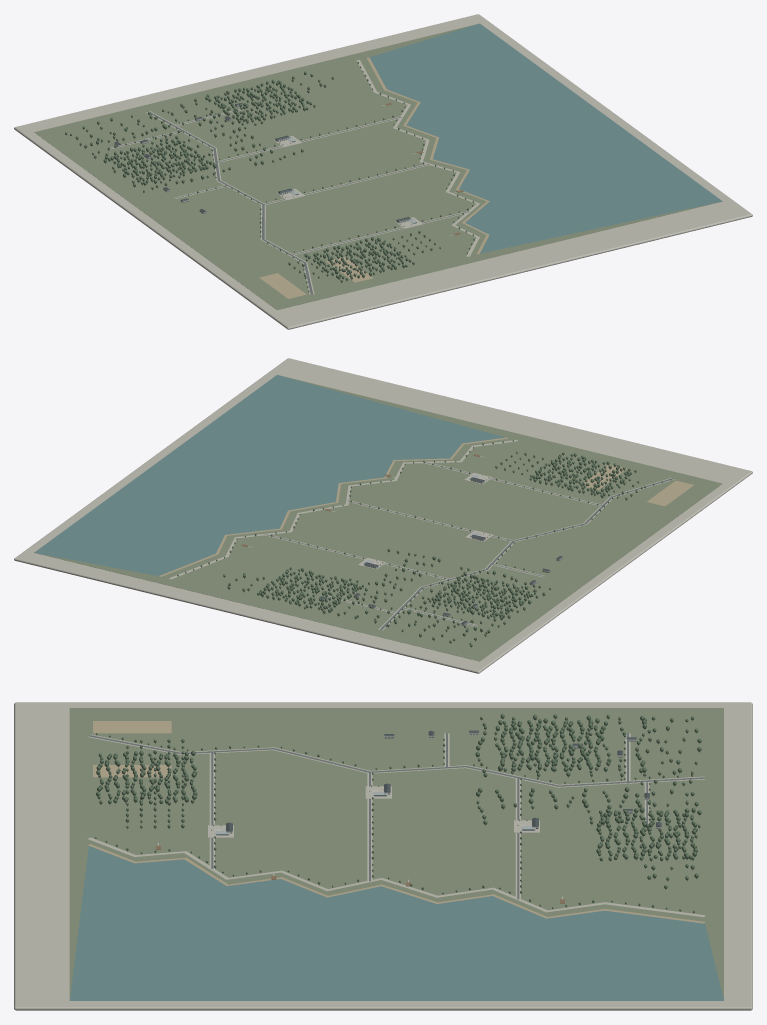
Rendered from IN-complete-v2.glb.
3 views of the same model, one above another, from view 1: azimuth 30°, elevation 25°; view 2: azimuth 150°, elevation 25°; view 3: azimuth 270°, elevation 25° (orthographic). The views are drawn at different scales.
Visible parts, largest first — view 1: IN_TERRAIN, IN_LAKE, IN_BASE, IN_PERIPHERAL_WOODS, IN_MACRO_WOODLAND, IN_shore_path_verge, IN_BANK, IN_rural_verge, IN_rural, IN_AVENUE_COURT_TREES, IN_FIELD_0; view 2: IN_TERRAIN, IN_LAKE, IN_BASE, IN_PERIPHERAL_WOODS, IN_MACRO_WOODLAND, IN_shore_path_verge, IN_BANK, IN_rural_verge, IN_rural, IN_AVENUE_COURT_TREES, IN_FIELD_0; view 3: IN_TERRAIN, IN_LAKE, IN_BASE, IN_PERIPHERAL_WOODS, IN_MACRO_WOODLAND, IN_shore_path_verge, IN_rural_verge, IN_BANK, IN_rural, IN_FIELD_0, IN_AVENUE_COURT_TREES, IN_shore_path (+6 smaller).
Part boxes in pixels (<box>): IN_TERRAIN: <box>34,24,722,310</box>; IN_LAKE: <box>369,23,722,253</box>; IN_BASE: <box>14,14,752,329</box>; IN_PERIPHERAL_WOODS: <box>105,79,414,282</box>; IN_MACRO_WOODLAND: <box>65,71,440,278</box>; IN_shore_path_verge: <box>356,60,479,256</box>; IN_BANK: <box>367,57,489,254</box>; IN_rural_verge: <box>146,111,314,294</box>; IN_rural: <box>147,111,313,294</box>; IN_AVENUE_COURT_TREES: <box>116,61,474,291</box>; IN_FIELD_0: <box>259,273,306,298</box>; IN_TERRAIN: <box>34,376,722,661</box>; IN_LAKE: <box>34,375,505,576</box>; IN_BASE: <box>14,358,752,673</box>; IN_PERIPHERAL_WOODS: <box>257,452,636,619</box>; IN_MACRO_WOODLAND: <box>223,451,642,646</box>; IN_shore_path_verge: <box>169,439,517,579</box>; IN_BANK: <box>159,437,507,576</box>; IN_rural_verge: <box>378,478,674,630</box>; IN_rural: <box>380,478,673,630</box>; IN_AVENUE_COURT_TREES: <box>177,440,671,626</box>; IN_FIELD_0: <box>647,480,693,506</box>; IN_TERRAIN: <box>69,708,723,1000</box>; IN_LAKE: <box>70,846,723,1000</box>; IN_BASE: <box>14,702,752,1010</box>; IN_PERIPHERAL_WOODS: <box>96,718,697,860</box>; IN_MACRO_WOODLAND: <box>125,714,701,888</box>; IN_shore_path_verge: <box>88,837,705,917</box>; IN_rural_verge: <box>88,734,704,787</box>; IN_BANK: <box>88,844,704,923</box>; IN_rural: <box>89,735,704,786</box>; IN_FIELD_0: <box>93,721,171,733</box>; IN_AVENUE_COURT_TREES: <box>95,733,694,912</box>; IN_shore_path: <box>89,838,704,916</box>.
Bounding box in the file's own units: 1880 × 29.99 × 1920.
